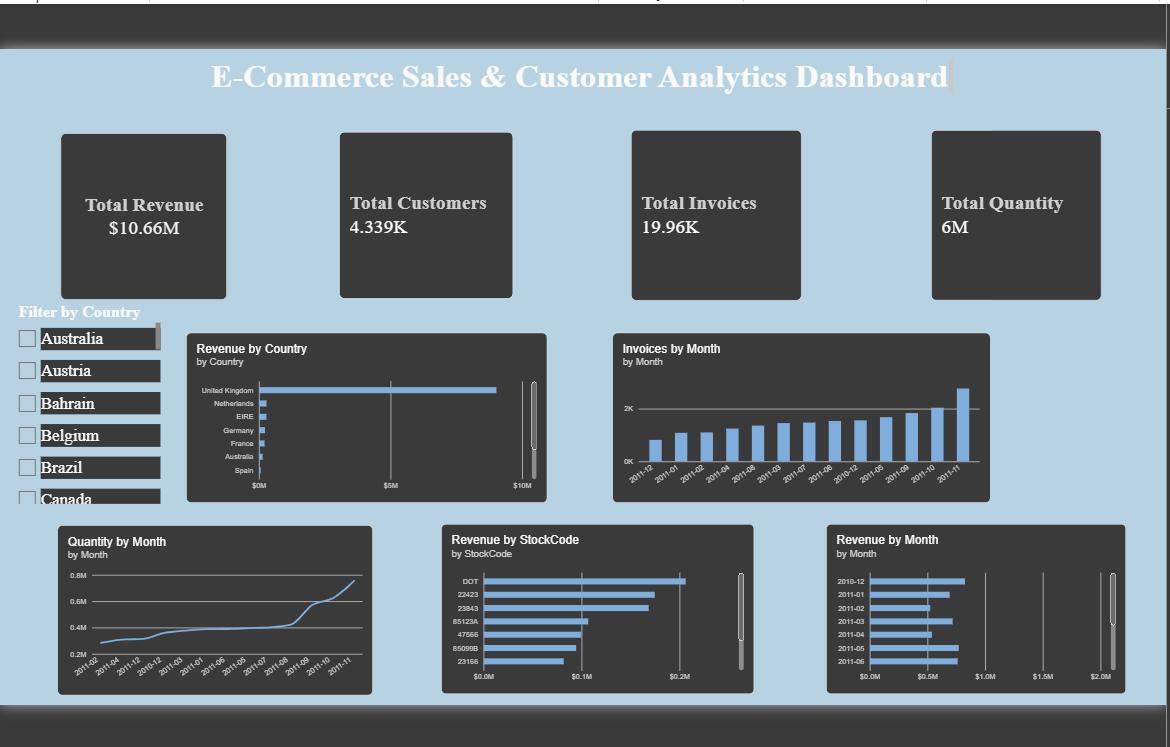

What the dashboard file says about the page in this screenshot:
{"tool":"powerbi","page":{"name":"Page 1","canvas":[1920,1080],"ordinal":0},"visuals":[{"type":"cardVisual","fields":{"Data":["Count(sales_clean.CustomerID)"]},"box":[555.9,134.7,292.9,280.1],"z":3000},{"type":"cardVisual","fields":{"Data":["Count(sales_clean.InvoiceNo)"]},"box":[1039.1,134.7,280,280],"z":4000},{"type":"cardVisual","fields":{"Data":["Sum(sales_clean.Quantity)"]},"box":[1533,134.7,280,280],"z":5000},{"type":"clusteredBarChart","fields":{"Category":["sales_clean.Month"],"Y":["Sum(sales_clean.Revenue)"]},"box":[1359.8,782.5,493.9,280.1],"z":6000},{"type":"clusteredBarChart","fields":{"Category":["sales_clean.StockCode"],"Y":["Sum(sales_clean.Revenue)"]},"box":[726.9,782.5,515.3,280.1],"z":7000},{"type":"clusteredBarChart","fields":{"Category":["sales_clean.Country"],"Y":["Sum(sales_clean.Revenue)"]},"box":[305.7,468.2,594.4,280.1],"z":8000},{"type":"lineChart","fields":{"Category":["sales_clean.Month"],"Y":["Sum(sales_clean.Quantity)"]},"box":[94.1,784.7,519.6,280.1],"z":9000},{"type":"clusteredColumnChart","fields":{"Category":["sales_clean.Month"],"Y":["Count(sales_clean.InvoiceNo)"]},"box":[1009.2,468.2,622.2,280.1],"z":10000},{"type":"textbox","box":[1743,33,177,280],"z":10002},{"type":"textbox","box":[416,910,280,170],"z":10003},{"type":"textbox","box":[760,630,280,280],"z":10004},{"type":"textbox","box":[760,910,280,170],"z":10005},{"type":"textbox","box":[346.4,15,1225.1,59.9],"z":10006},{"type":"cardVisual","fields":{"Data":["Sum(sales_clean.Revenue)"]},"box":[96.2,136.8,280,280],"z":10007},{"type":"slicer","fields":{"Values":["sales_clean.Country"]},"box":[23.5,416.9,241.6,331.4],"z":10008}]}

Visuals, with their boxes in screenshot pixels (x1, y1, x2, y2):
cardVisual - Count(sales_clean.CustomerID): 337 130 513 298
cardVisual - Count(sales_clean.InvoiceNo): 627 130 796 298
cardVisual - Sum(sales_clean.Quantity): 924 130 1093 298
clusteredBarChart - sales_clean.Month x Sum(sales_clean.Revenue): 820 519 1117 687
clusteredBarChart - sales_clean.StockCode x Sum(sales_clean.Revenue): 440 519 750 687
clusteredBarChart - sales_clean.Country x Sum(sales_clean.Revenue): 187 330 544 498
lineChart - sales_clean.Month x Sum(sales_clean.Quantity): 60 520 372 689
clusteredColumnChart - sales_clean.Month x Count(sales_clean.InvoiceNo): 610 330 983 498
textbox: 1051 69 1157 237
textbox: 253 596 421 698
textbox: 460 427 628 596
textbox: 460 596 628 698
textbox: 211 58 947 94
cardVisual - Sum(sales_clean.Revenue): 61 131 229 299
slicer - sales_clean.Country: 17 299 162 498
